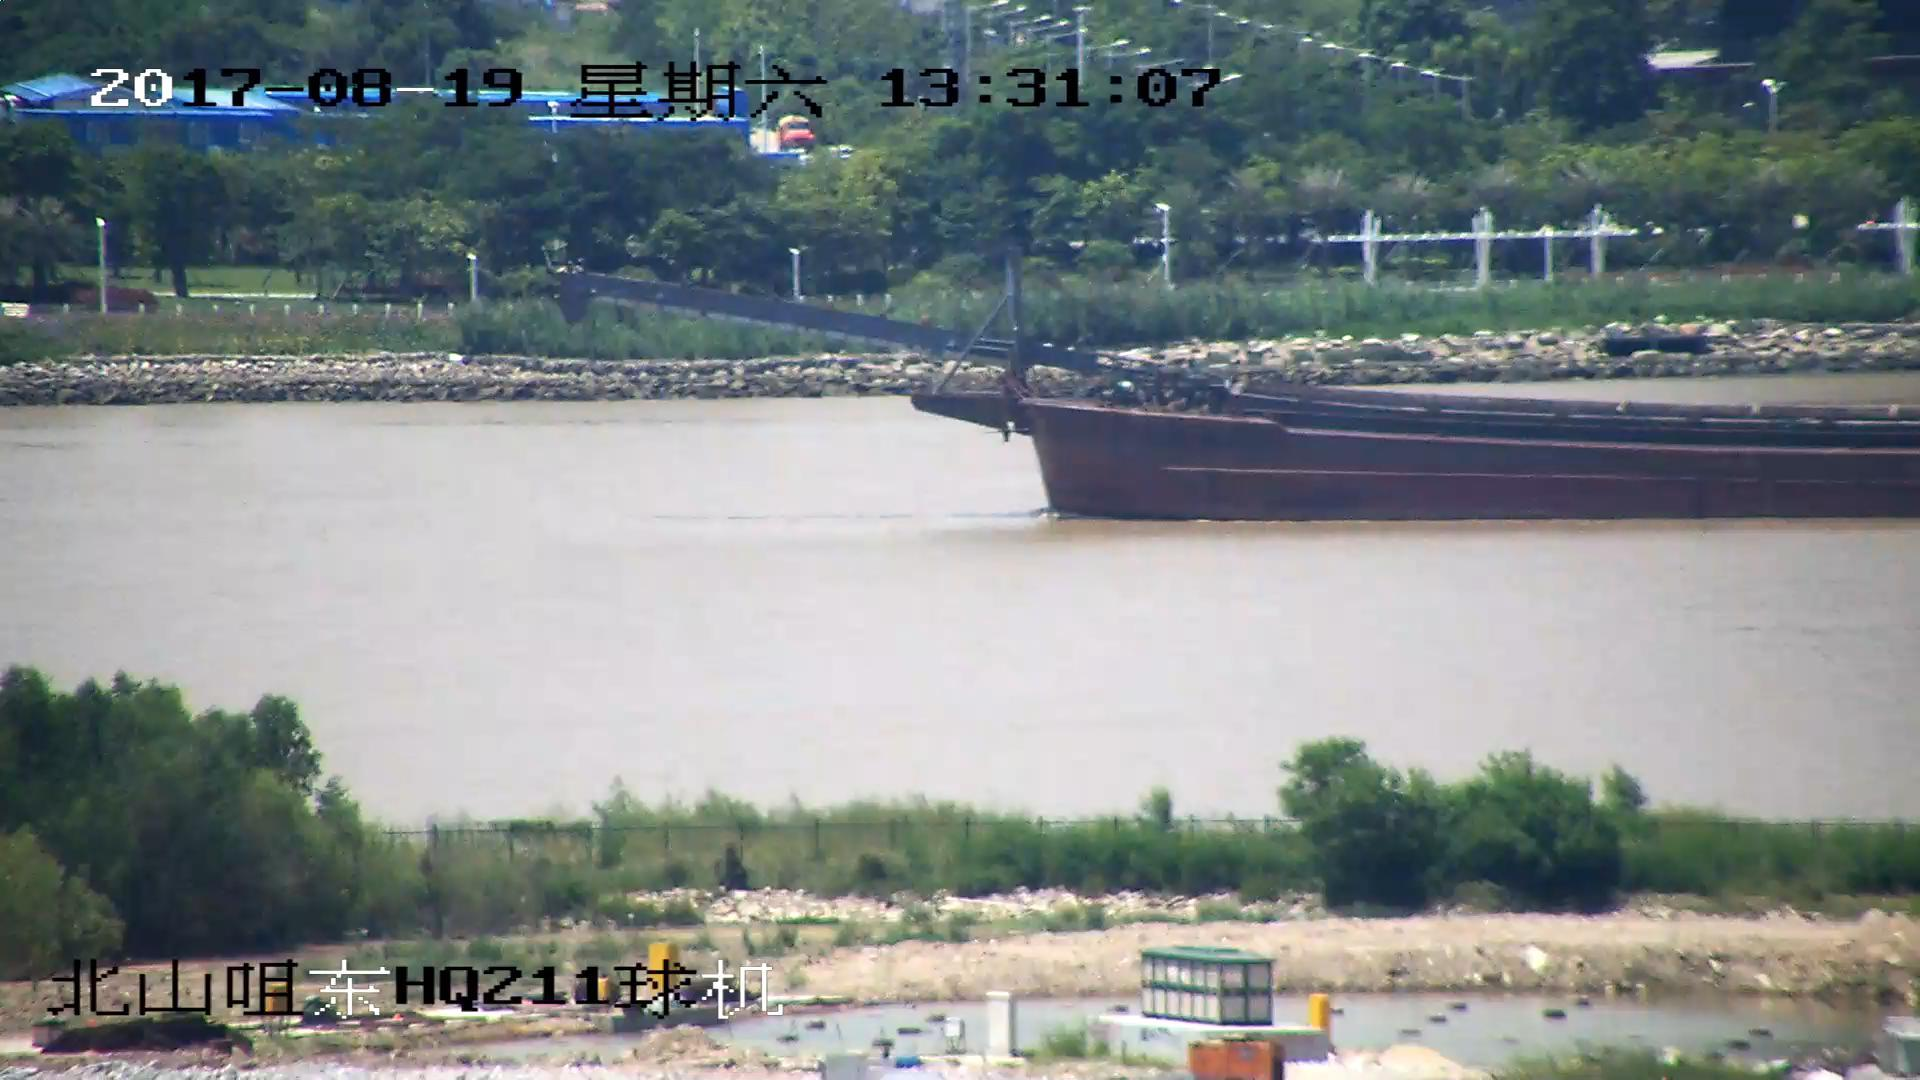Ship: (567, 266, 1920, 524)
